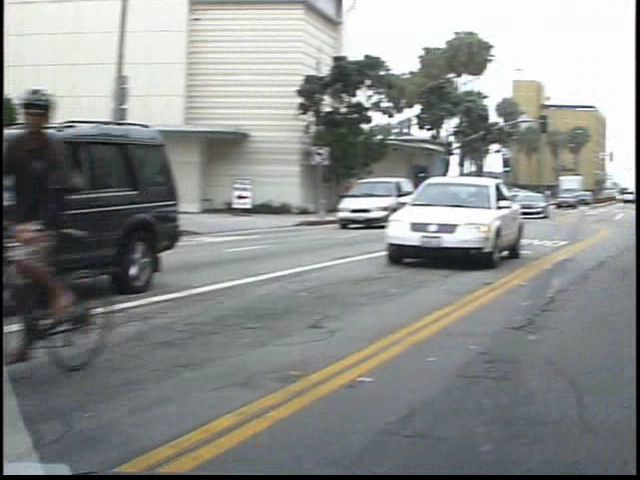person: (362, 173, 382, 214)
